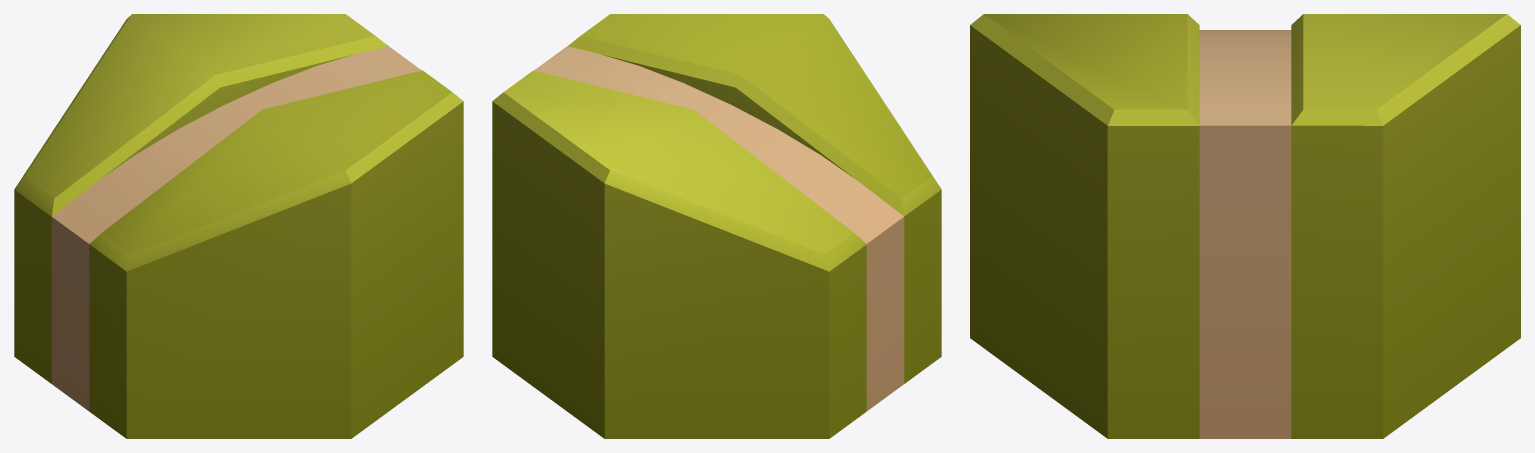
Rendered from hex_road_A_sloped_low.glb.
3 views of the same model, side by side, from view 1: azimuth 30°, elevation 25°; view 2: azimuth 150°, elevation 25°; view 3: azimuth 270°, elevation 25° (orthographic). The views are drawn at different scales.
Parts seen in each view (by area): view 1: hex_road_A_sloped_low; view 2: hex_road_A_sloped_low; view 3: hex_road_A_sloped_low.
Part boxes in pixels (x1,y1,x2,y2): hex_road_A_sloped_low: [14, 14, 463, 438]; hex_road_A_sloped_low: [492, 14, 941, 438]; hex_road_A_sloped_low: [970, 14, 1520, 438].
Size of the model in its own units: 2 by 1.5 by 2.31.
Materials: 1 (1 with a texture image).
